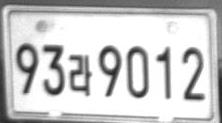0: (126, 45, 149, 98)
1: (154, 46, 178, 99)
2: (181, 46, 204, 100)
3: (42, 44, 65, 96)
9: (15, 41, 39, 94), (98, 44, 122, 96)
라: (68, 53, 92, 96)
